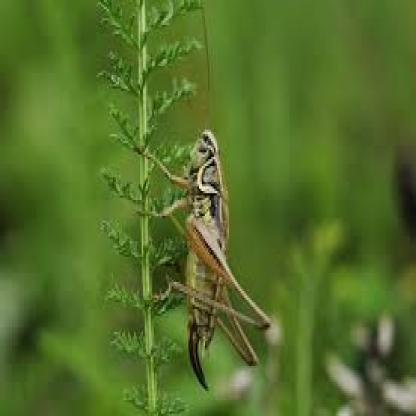grasshopper: (141, 122, 270, 399)
